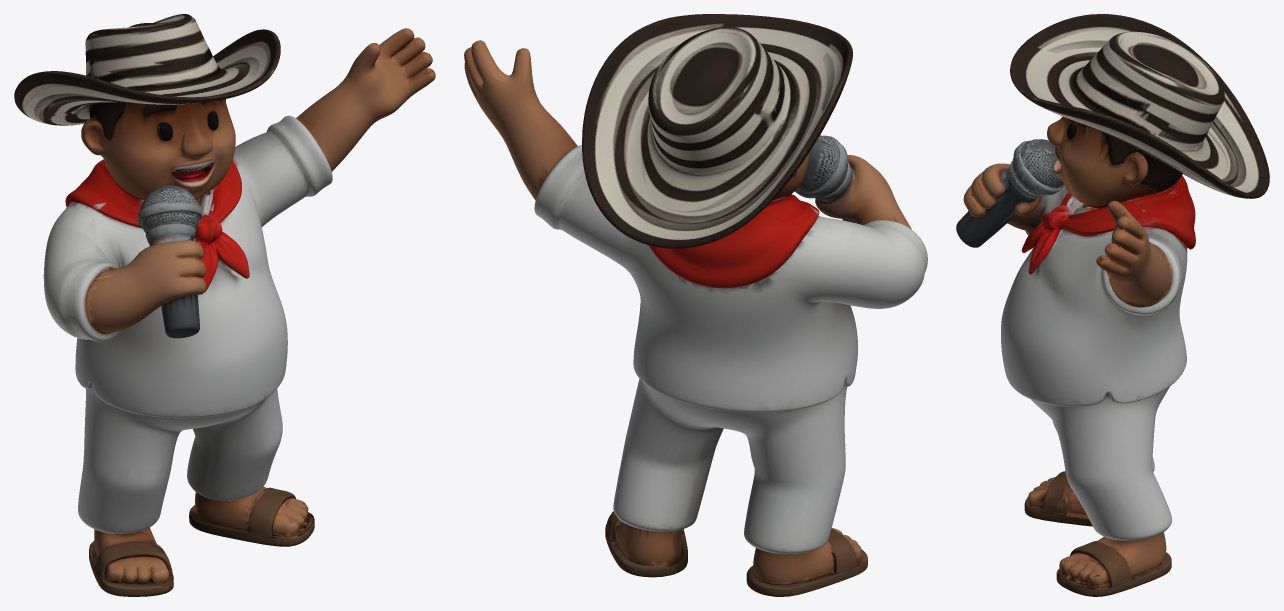
File: Musico3.fbx
The picture shows the model from 3 angles, left to right: view 1: azimuth 30°, elevation 25°; view 2: azimuth 150°, elevation 25°; view 3: azimuth 270°, elevation 25°; orthographic projection. The views are drawn at different scales.
Parts seen in each view (by area): view 1: Mesh_0; view 2: Mesh_0; view 3: Mesh_0.
Boxes of the visible parts, bbox=[...] form: Mesh_0: bbox=[14, 14, 435, 596]; Mesh_0: bbox=[464, 14, 927, 596]; Mesh_0: bbox=[956, 14, 1269, 596].
Bounding box in the file's own units: 82.48 × 101 × 57.89.
Materials: 1 (1 with a texture image).
